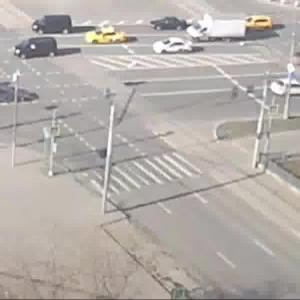car: (189, 23, 242, 48), (18, 37, 64, 60), (33, 16, 82, 34), (85, 29, 129, 49), (145, 15, 184, 35), (272, 78, 300, 97), (1, 83, 26, 104), (242, 16, 271, 34), (160, 40, 193, 55)
